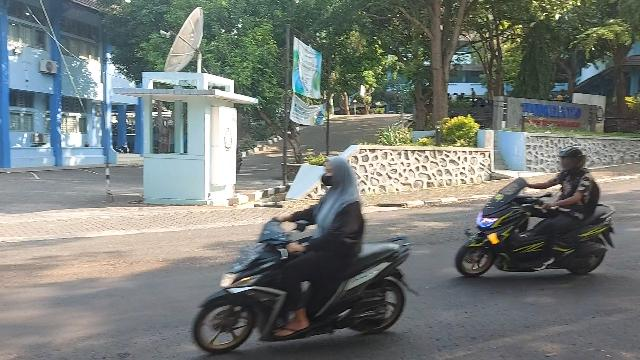helm: (558, 147, 586, 173)
motor: (193, 219, 422, 356), (456, 178, 617, 278)
non-helm: (323, 157, 351, 187)
